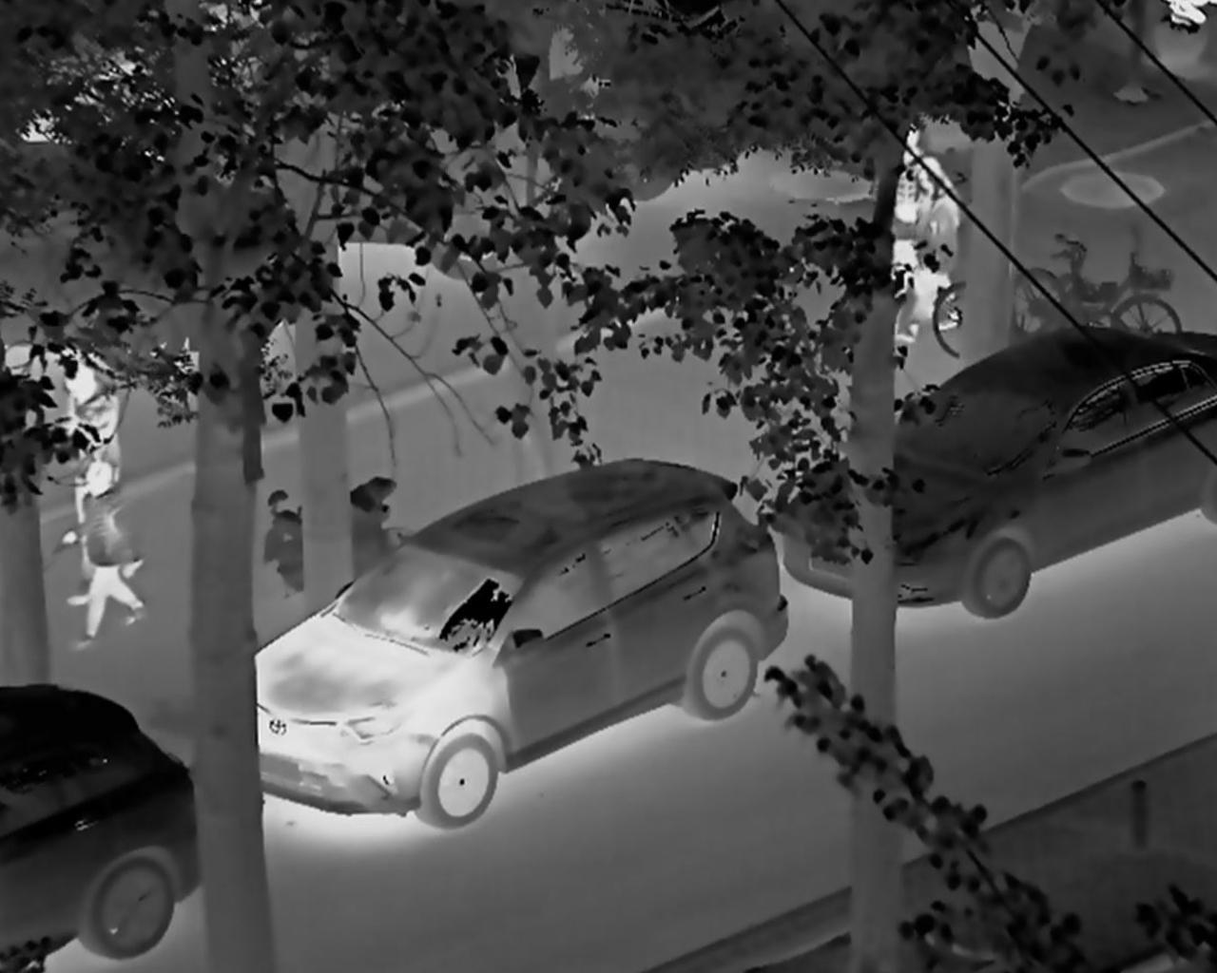person: (69, 458, 162, 659)
